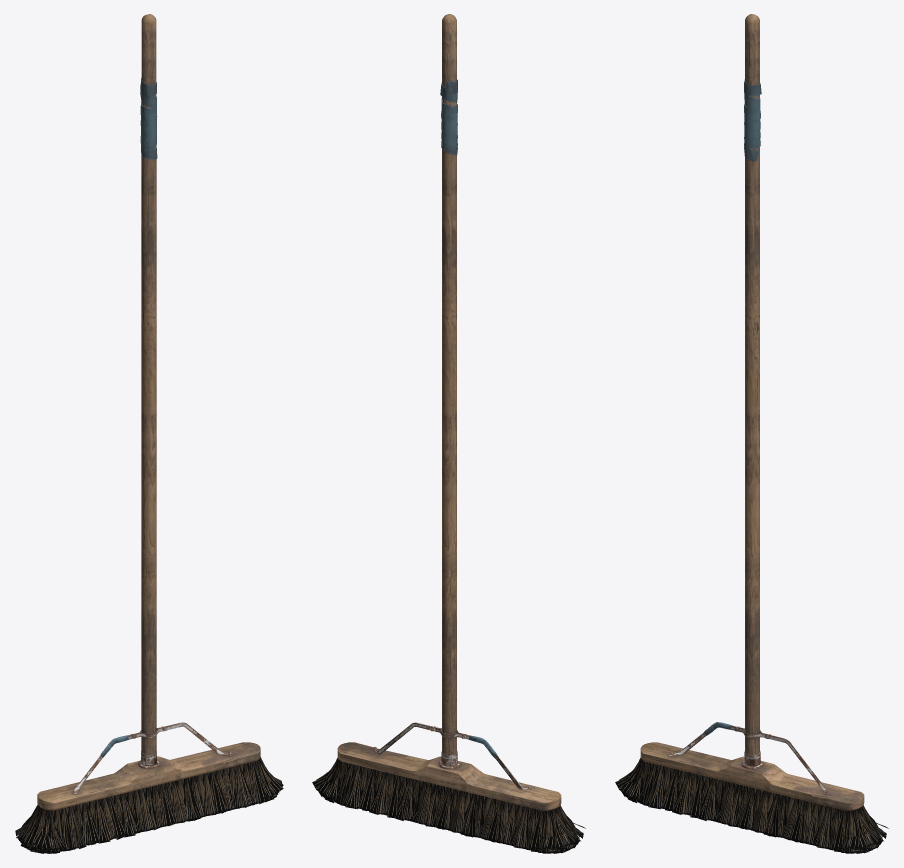
File: wooden_broom.glb
3 renders of one model, left to right at view 1: azimuth 30°, elevation 25°; view 2: azimuth 150°, elevation 25°; view 3: azimuth 330°, elevation 25°, orthographic.
Visible parts, largest first — view 1: wooden_broom_handle, wooden_broom_bristles; view 2: wooden_broom_handle, wooden_broom_bristles; view 3: wooden_broom_handle, wooden_broom_bristles.
Part boxes in pixels (x1=…): wooden_broom_handle: x1=37, y1=14, x2=260, y2=810; wooden_broom_bristles: x1=15, y1=757, x2=283, y2=853; wooden_broom_handle: x1=337, y1=14, x2=561, y2=810; wooden_broom_bristles: x1=312, y1=757, x2=585, y2=853; wooden_broom_handle: x1=640, y1=14, x2=864, y2=810; wooden_broom_bristles: x1=615, y1=757, x2=888, y2=853.
Size of the model in its own units: 0.4902 by 1.45 by 0.1125.
2 materials, 2 textured.
